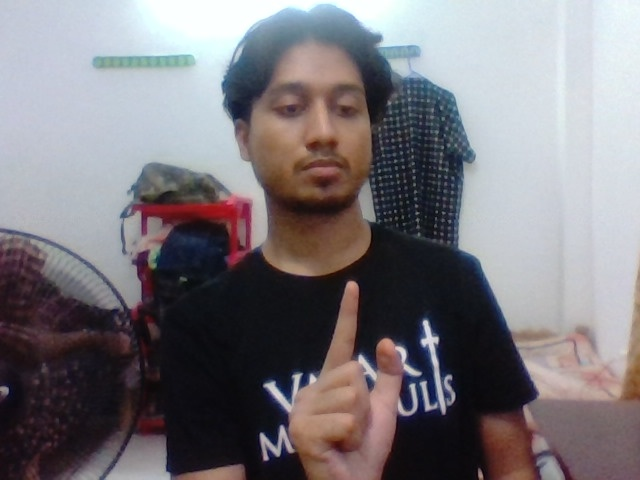J: (285, 275, 423, 467)
